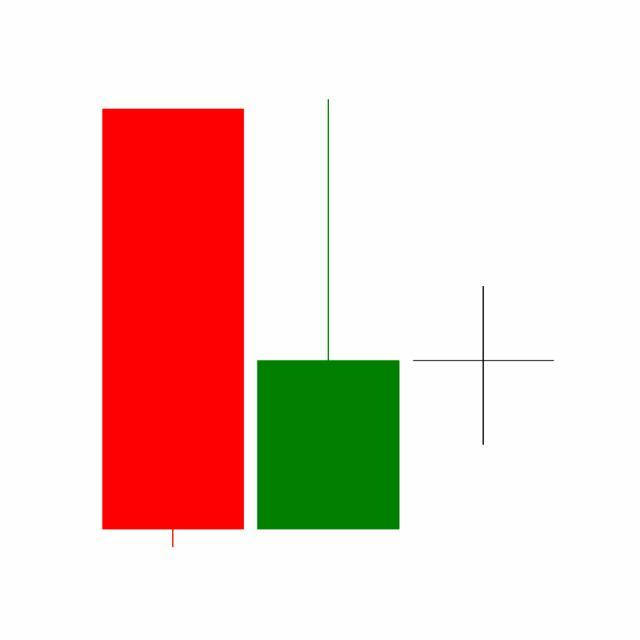Spinning Top: (406, 284, 562, 447)
